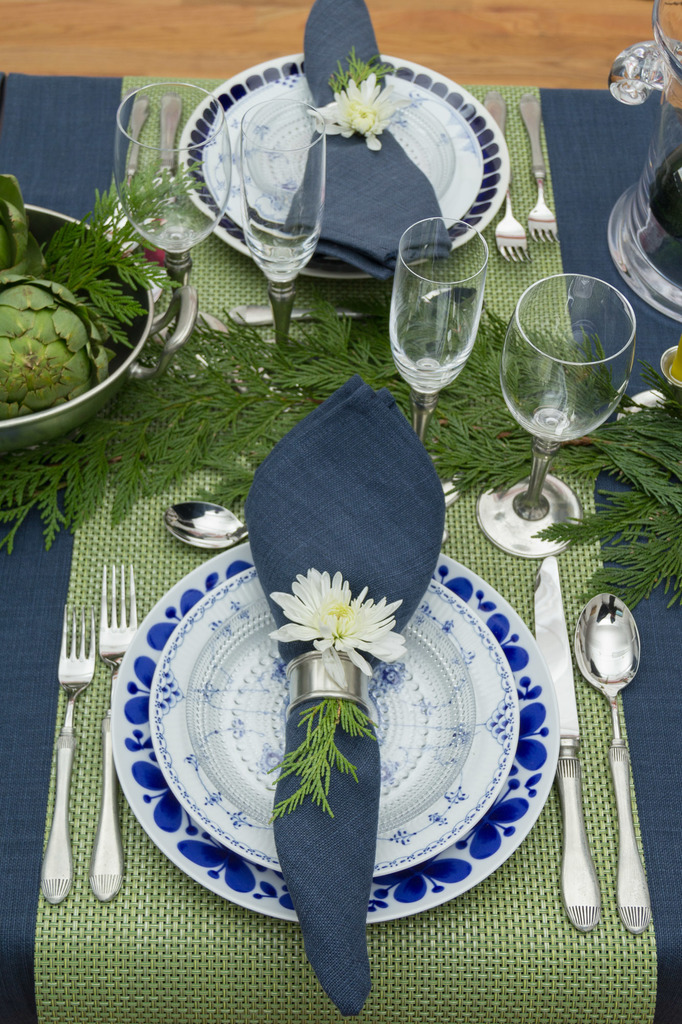plate: (117, 489, 555, 976)
